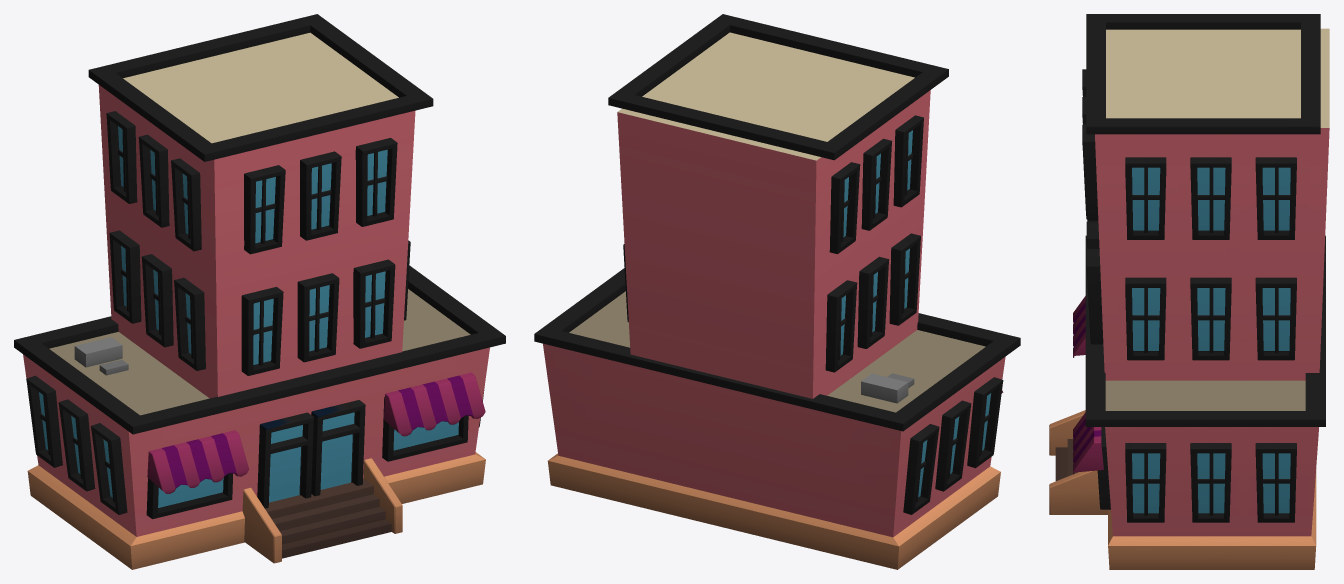
The model's file is building_02.fbx.
The picture shows the model from 3 angles, left to right: view 1: azimuth 30°, elevation 25°; view 2: azimuth 150°, elevation 25°; view 3: azimuth 270°, elevation 25°; orthographic projection. The views are drawn at different scales.
Visible parts, largest first — view 1: Building_02; view 2: Building_02; view 3: Building_02.
Boxes of the visible parts, x1=… form: Building_02: x1=14, y1=14, x2=505, y2=569; Building_02: x1=534, y1=14, x2=1020, y2=569; Building_02: x1=1049, y1=14, x2=1329, y2=569.
Bounding box in the file's own units: 773 × 797 × 490.
